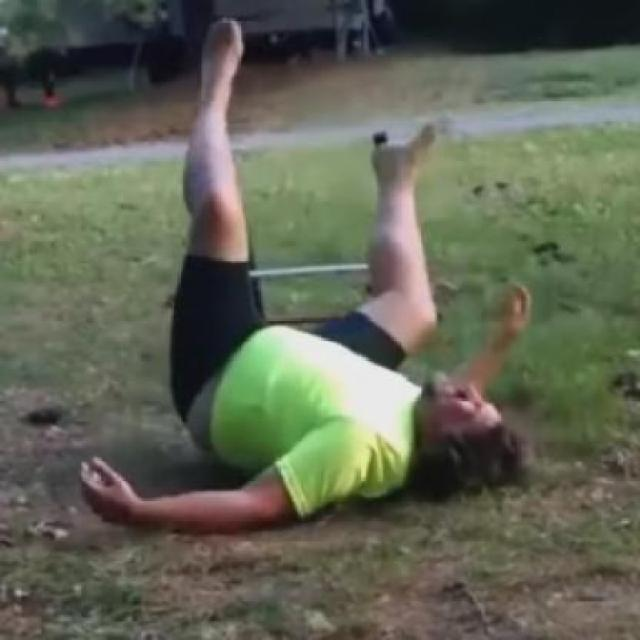fall: (80, 8, 532, 528)
